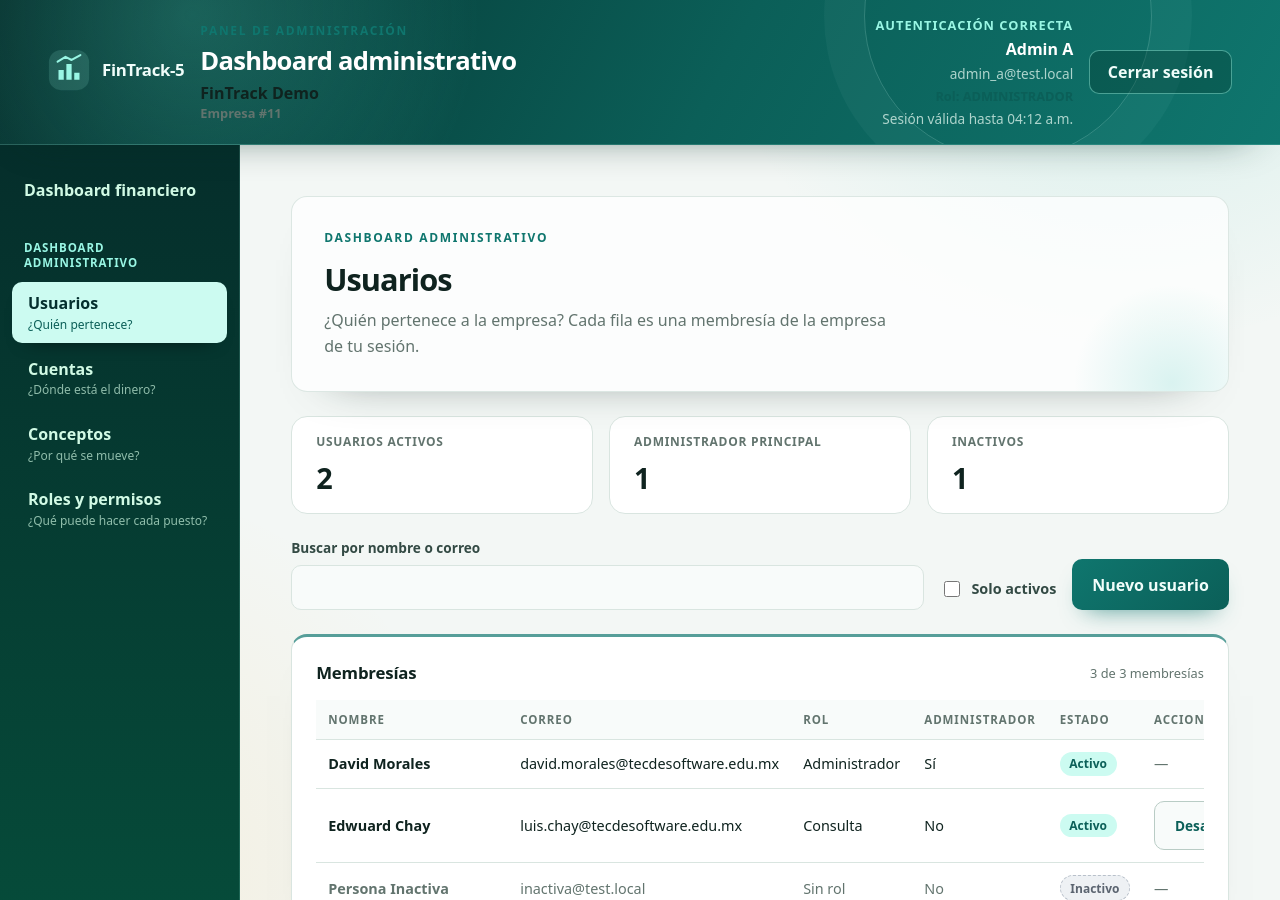
Test: dashboard administrativo: usuarios › da de alta un usuario, vuelve a consultar la tabla y muestra el correo duplicado
Earlier steps of the test are not shown.
Later steps or results of the test are not shown.
Click the button "Nuevo usuario" at (1151, 585), box 1072,559 -> 1229,610
(page scrolled)
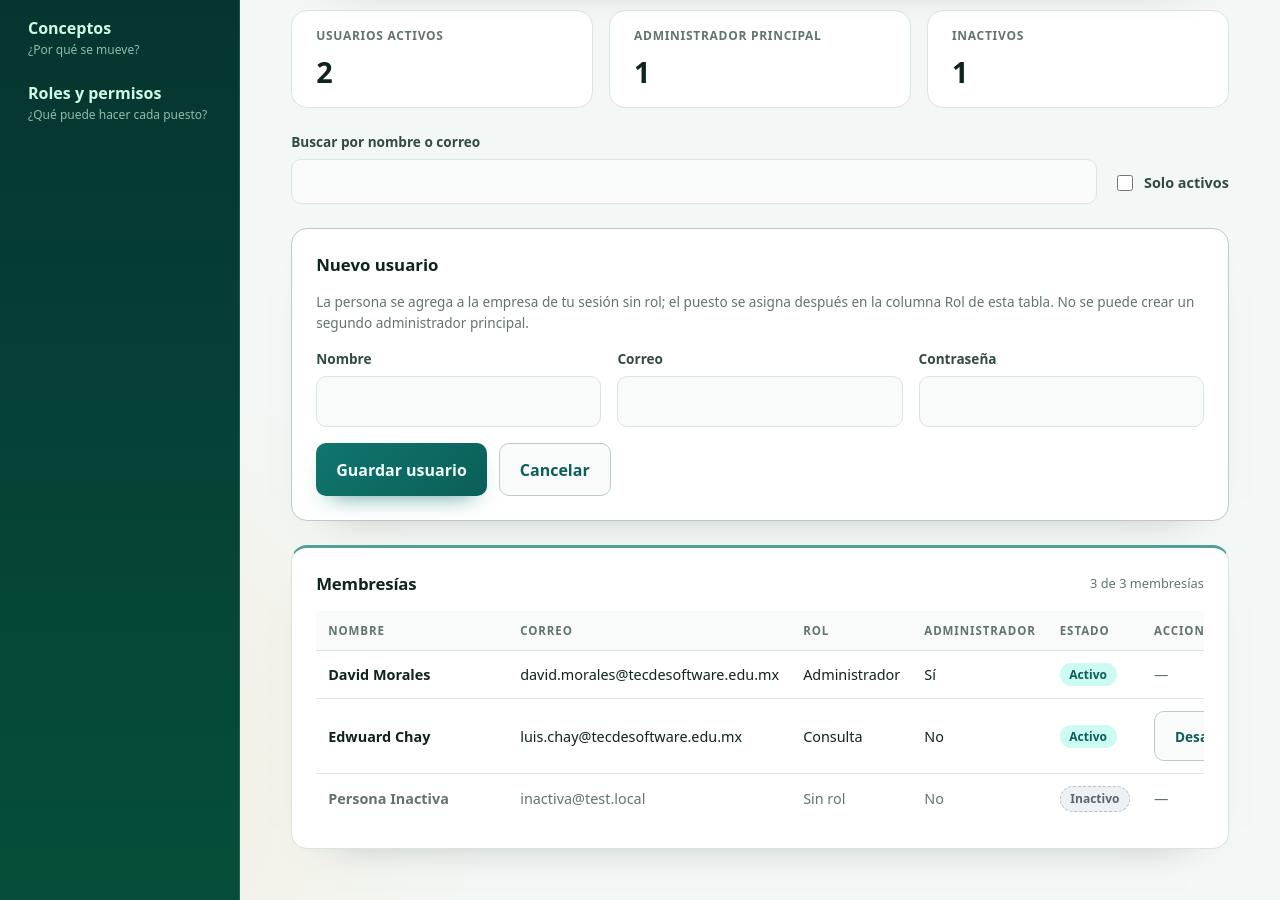
Click the button "Guardar usuario" at (402, 470), box 316,443 -> 487,496
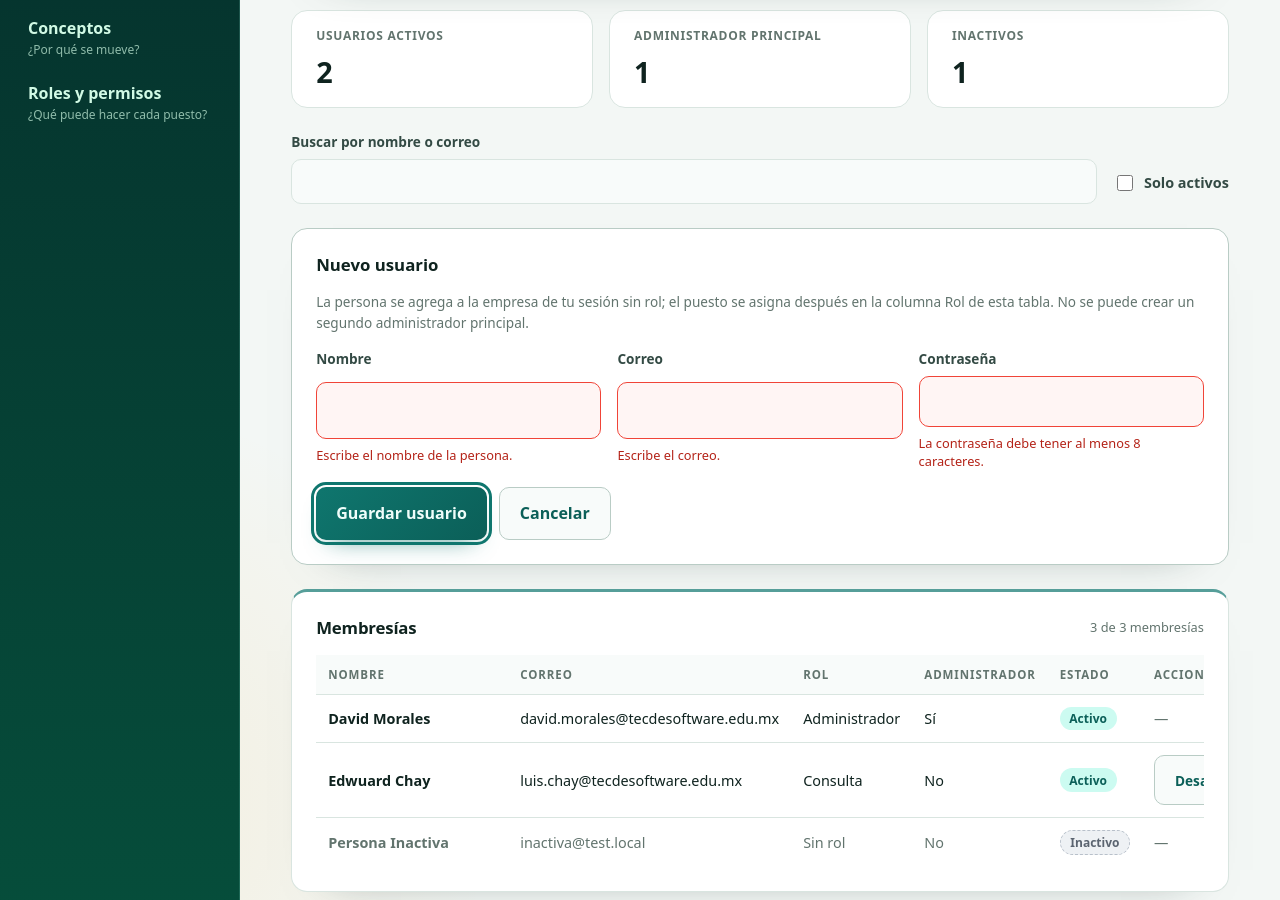
Expected: the text "Escribe el nombre de la persona." is shown, 316,446 -> 512,464
Type "Nueva Persona" into the field labelled "Nombre" at (459, 411), box 316,382 -> 601,439
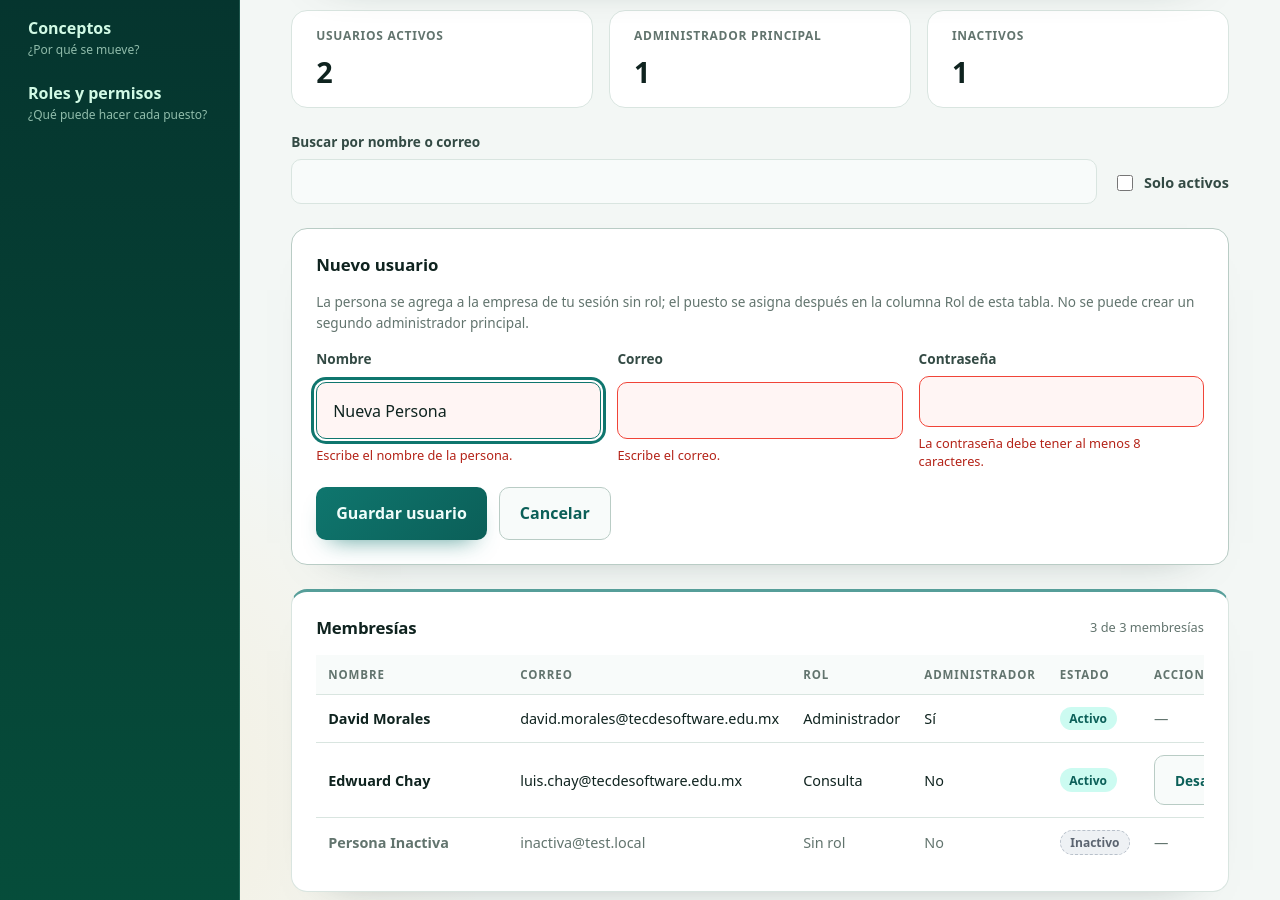
Type "nueva@test.local" into the field labelled "Correo" at (760, 411), box 617,382 -> 903,439
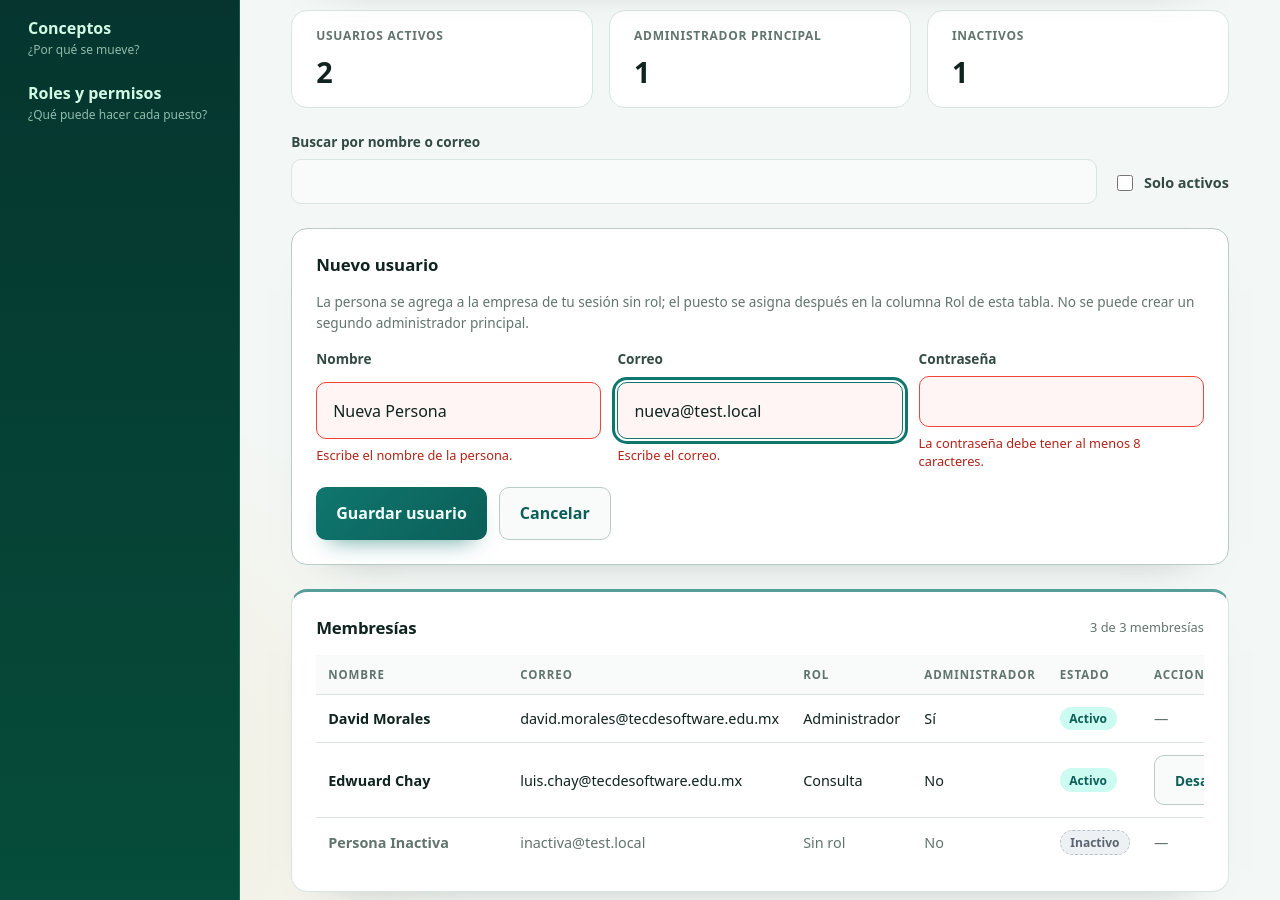
Type "clave-segura-1" into the password field labelled "Contraseña" at (1061, 402), box 919,376 -> 1204,427
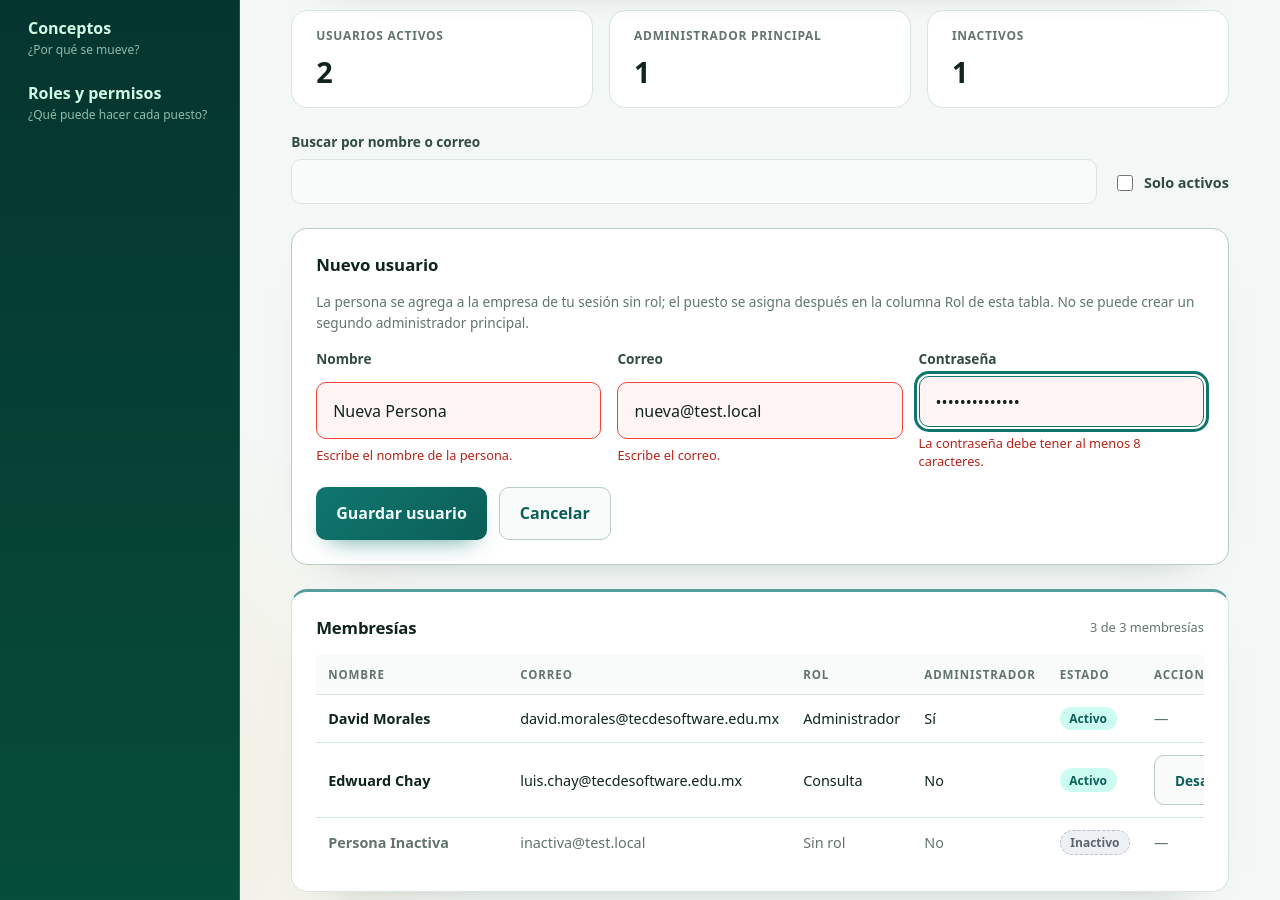
Click the button "Guardar usuario" at (402, 513), box 316,487 -> 487,540
(page scrolled)
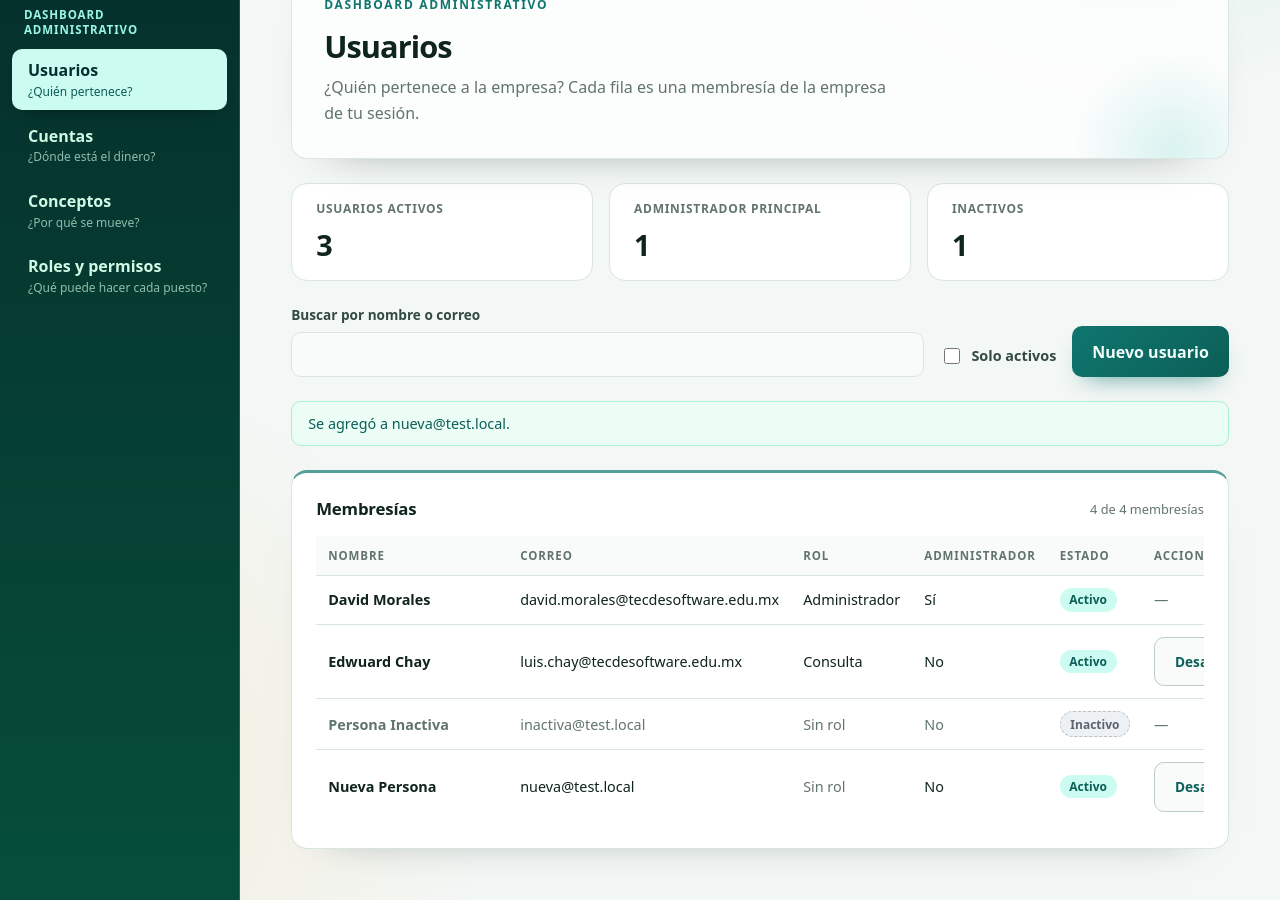
Expected: the text "Se agregó a nueva@test.local." is shown, 291,401 -> 1229,446
Expected: the column heading "Nueva Persona" is shown, 316,749 -> 508,824
